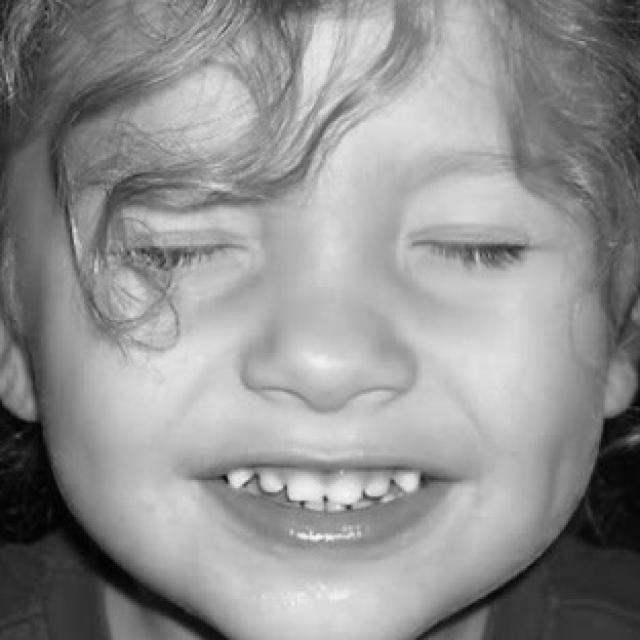real: (12, 8, 605, 640), (108, 204, 531, 304)
